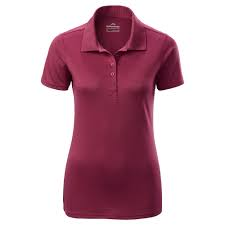C_polo shirt: (36, 6, 194, 218)
